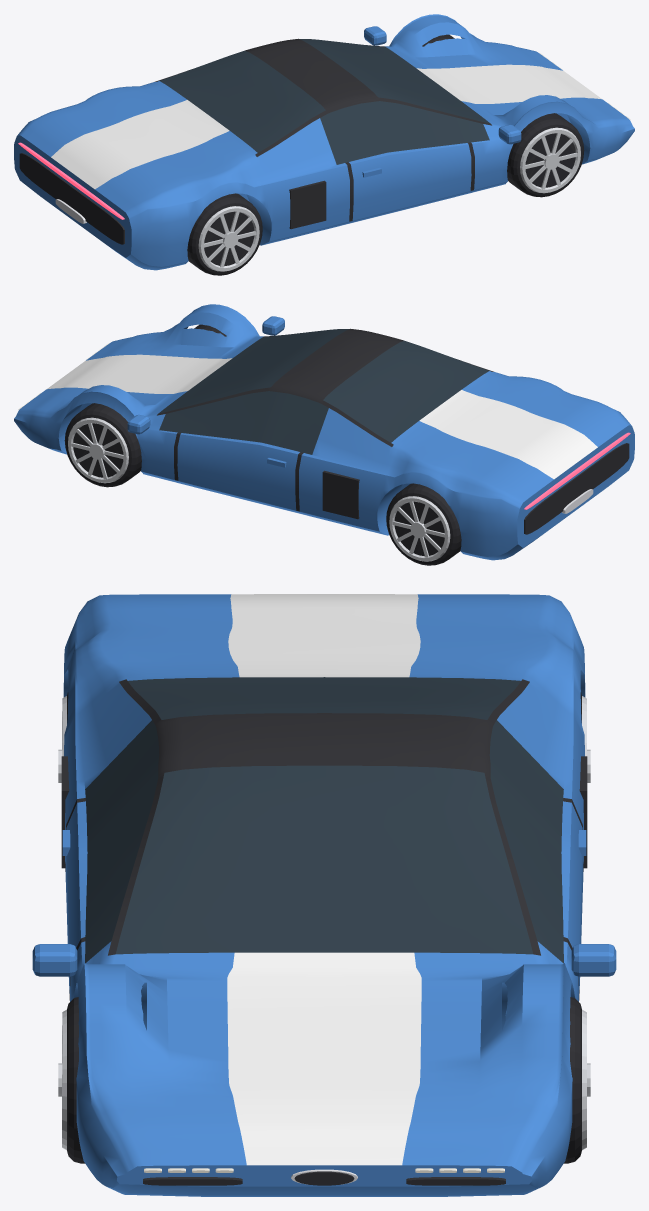
The model's file is bugati_shiron.fbx.
3 renders of one model, top to bottom at view 1: azimuth 30°, elevation 25°; view 2: azimuth 150°, elevation 25°; view 3: azimuth 270°, elevation 25°, orthographic. The views are drawn at different scales.
Parts seen in each view (by area): view 1: Body.039, Glass.039, Stripe.007, Trim.039, Tire.039, Rim.039, TailLight.039; view 2: Body.039, Glass.039, Stripe.007, Trim.039, Tire.039, Rim.039, TailLight.039; view 3: Body.039, Glass.039, Stripe.007, Trim.039, Tire.039, Rim.039.
Boxes of the visible parts, x1=… form: Body.039: x1=14, y1=14, x2=634, y2=270; Glass.039: x1=160, y1=39, x2=490, y2=164; Stripe.007: x1=51, y1=64, x2=601, y2=189; Trim.039: x1=19, y1=39, x2=575, y2=265; Tire.039: x1=187, y1=34, x2=584, y2=275; Rim.039: x1=198, y1=127, x2=580, y2=271; TailLight.039: x1=18, y1=142, x2=124, y2=219; Body.039: x1=14, y1=304, x2=634, y2=560; Glass.039: x1=158, y1=329, x2=488, y2=454; Stripe.007: x1=47, y1=354, x2=597, y2=479; Trim.039: x1=73, y1=329, x2=629, y2=555; Tire.039: x1=64, y1=324, x2=461, y2=565; Rim.039: x1=68, y1=417, x2=450, y2=561; TailLight.039: x1=524, y1=432, x2=630, y2=509; Body.039: x1=32, y1=594, x2=616, y2=1196; Glass.039: x1=85, y1=677, x2=563, y2=963; Stripe.007: x1=227, y1=594, x2=421, y2=1165; Trim.039: x1=61, y1=679, x2=587, y2=1185; Tire.039: x1=67, y1=692, x2=581, y2=1163; Rim.039: x1=58, y1=696, x2=590, y2=1150.
Bounding box in the file's own units: 1597 × 370 × 783.
